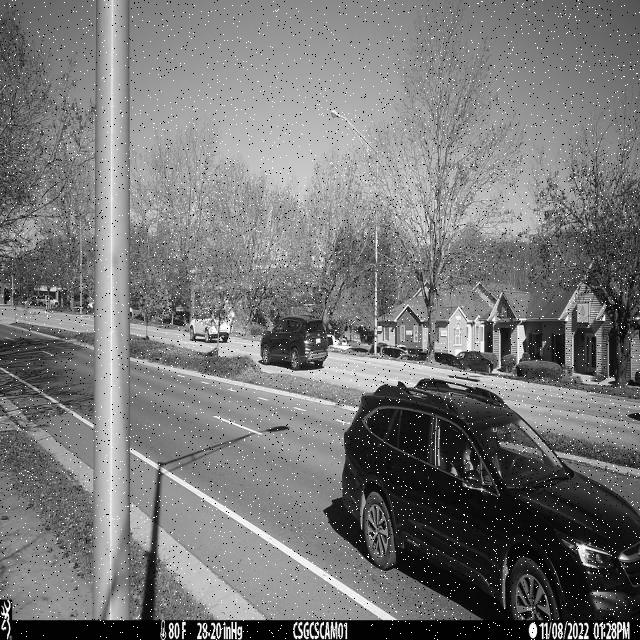SUV: (341, 378, 640, 622)
